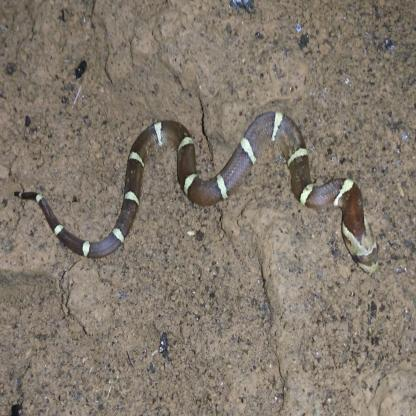Snake: (13, 112, 380, 274)
